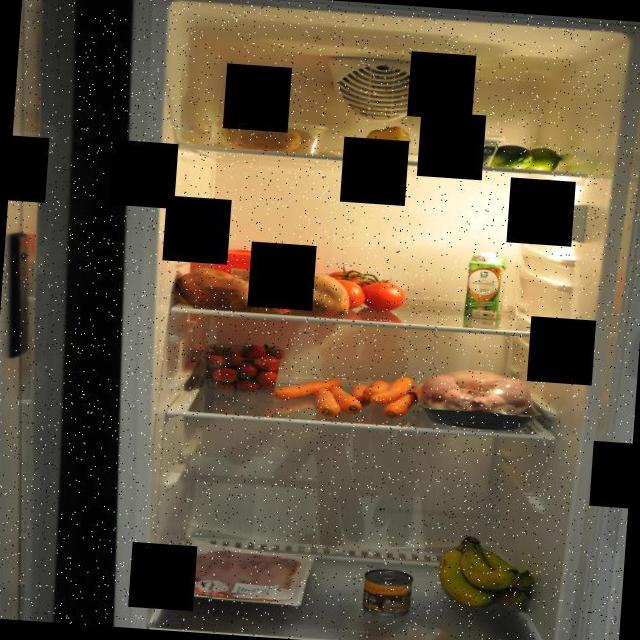Carne cerdo: (177, 544, 300, 604)
Carne pollo: (415, 362, 543, 432)
Mantequilla: (201, 241, 317, 287)
Patata: (208, 110, 334, 156)
Plátano: (426, 528, 542, 619)
Queso: (432, 134, 507, 168), (360, 122, 416, 160)
Tomate: (322, 262, 408, 316)
Zanahoria: (269, 363, 422, 425)
corn: (360, 566, 419, 620)
heavy_cream: (460, 248, 507, 328)
strawberries: (200, 333, 282, 392)
sweet_potato: (172, 262, 353, 318)
